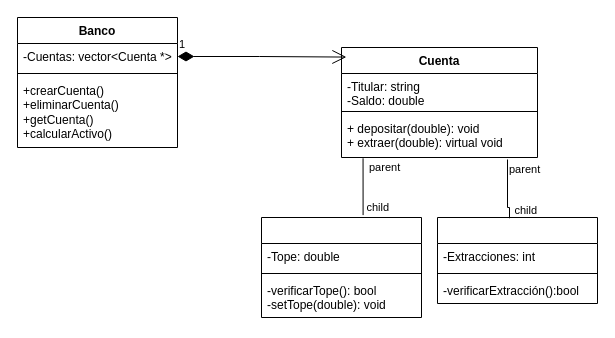
The diagram is 615 pixels wide and 338 high, and some of its shapes have lost their labels. The box of each missing label's shape, as (x1, y1, x2, y2) in pixels:
cAhorro: (436, 216, 598, 304)
cCorriente: (260, 216, 422, 318)
